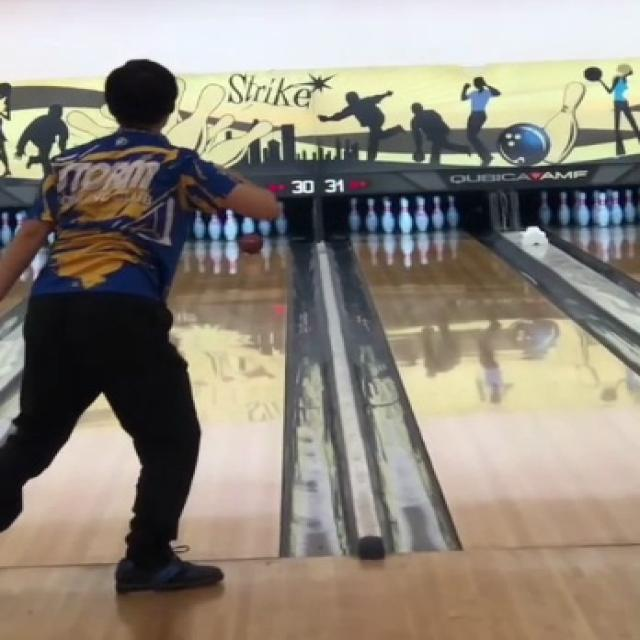alley: (171, 240, 285, 560), (0, 398, 136, 566)
balls: (239, 234, 259, 252)
bottle: (189, 211, 285, 240)
